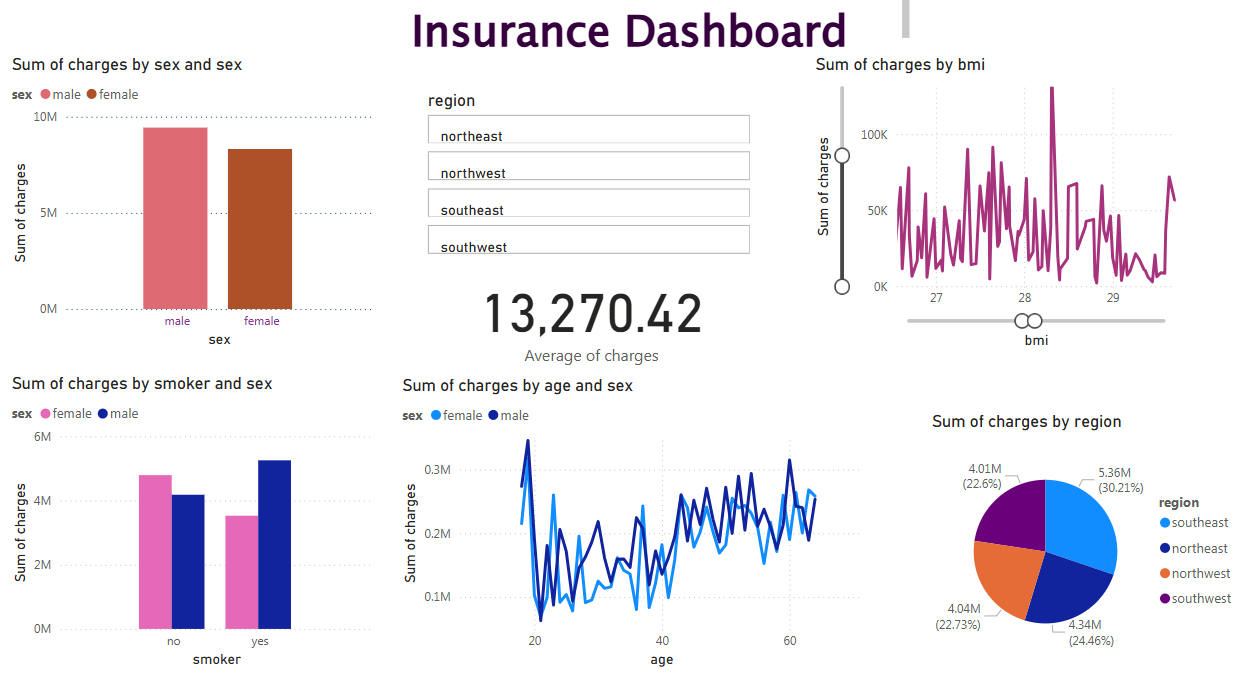

What the dashboard file says about the page in this screenshot:
{"tool":"powerbi","page":{"name":"Page 1","canvas":[1280,720],"ordinal":0},"visuals":[{"type":"columnChart","fields":{"Category":["insurance.sex"],"Y":["Sum(insurance.charges)"],"Series":["insurance.sex"]},"box":[10.8,59.9,371.7,299.5],"z":0},{"type":"clusteredColumnChart","fields":{"Category":["insurance.smoker"],"Y":["Sum(insurance.charges)"],"Series":["insurance.sex"]},"box":[10.8,381.7,372.3,299.8],"z":2},{"type":"lineChart","fields":{"Category":["insurance.age"],"Y":["Sum(insurance.charges)"],"Series":["insurance.sex"]},"box":[383.1,381.7,473.2,298.4],"z":3},{"type":"lineChart","fields":{"Category":["insurance.bmi"],"Y":["Sum(insurance.charges)"]},"box":[819,61,372,300],"z":4},{"type":"card","fields":{"Values":["Avg(insurance.charges)"]},"box":[450.4,229.2,335,129.8],"z":5},{"type":"qnaVisual","box":[949,407.3,104.8,12.1],"z":6},{"type":"advancedSlicerVisual","fields":{"Values":["insurance.region"]},"box":[450.4,59.3,335,169.9],"z":7},{"type":"pieChart","fields":{"Category":["insurance.region"],"Y":["Sum(insurance.charges)"]},"box":[935.6,419.4,319.9,262.1],"z":8}]}

Visuals, with their boxes in screenshot pixels (x1, y1, x2, y2), scaled from the page's 1280x720 canvas onto the 1259x697 screenshot:
columnChart - insurance.sex x Sum(insurance.charges): <bbox>11, 58, 376, 348</bbox>
clusteredColumnChart - insurance.smoker x Sum(insurance.charges): <bbox>11, 370, 377, 660</bbox>
lineChart - insurance.age x Sum(insurance.charges): <bbox>377, 370, 842, 658</bbox>
lineChart - insurance.bmi x Sum(insurance.charges): <bbox>806, 59, 1171, 349</bbox>
card - Avg(insurance.charges): <bbox>443, 222, 773, 348</bbox>
qnaVisual: <bbox>933, 394, 1037, 406</bbox>
advancedSlicerVisual - insurance.region: <bbox>443, 57, 773, 222</bbox>
pieChart - insurance.region x Sum(insurance.charges): <bbox>920, 406, 1235, 660</bbox>
